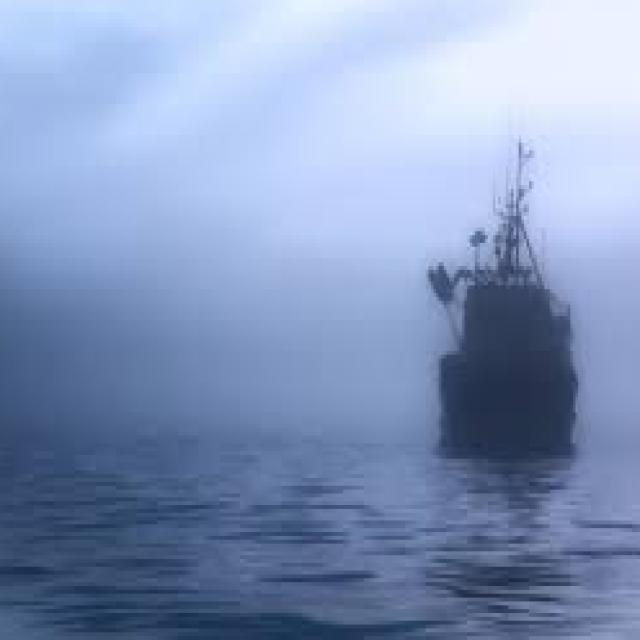fishing boat: (423, 137, 581, 453)
